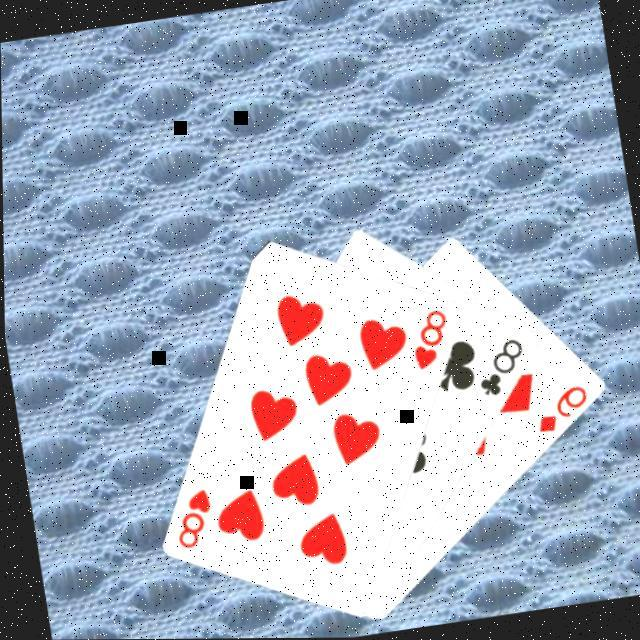8C: (468, 334, 530, 402)
8H: (164, 485, 218, 555), (402, 306, 455, 376)
9D: (527, 382, 593, 439)
